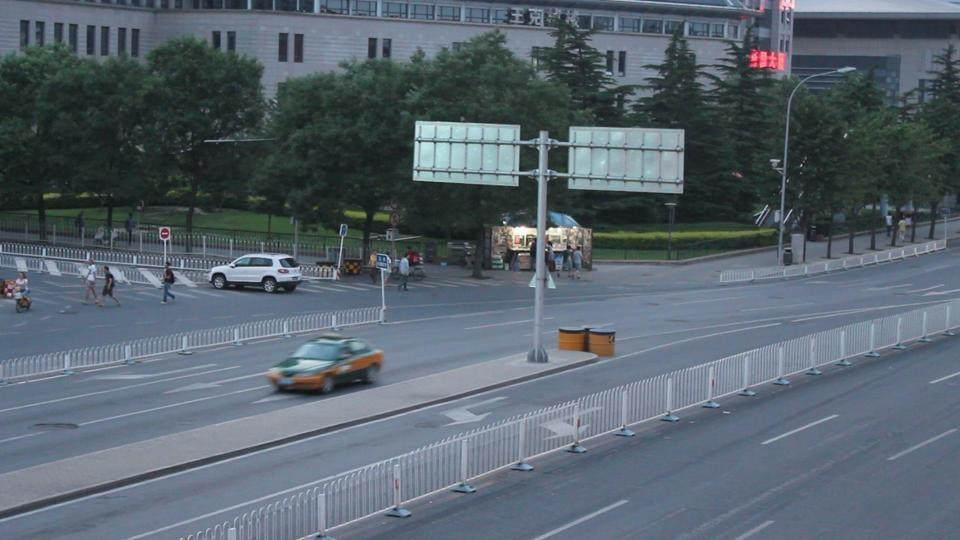car: (266, 335, 384, 394), (208, 254, 303, 293)
